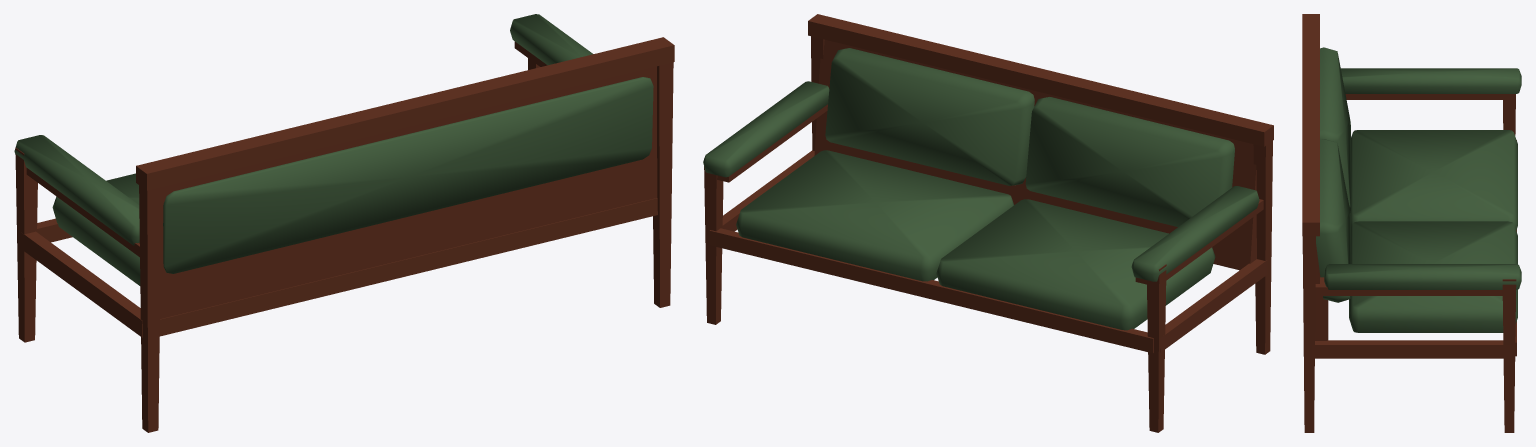
Rendered from parametric-sofa-1st.glb.
3 views of the same model, side by side, from view 1: azimuth 30°, elevation 25°; view 2: azimuth 150°, elevation 25°; view 3: azimuth 270°, elevation 25° (orthographic). The views are drawn at different scales.
Visible parts, largest first — view 1: parametric-sofa-1st; view 2: parametric-sofa-1st; view 3: parametric-sofa-1st.
Part boxes in pixels (x1,y1,x2,y2): parametric-sofa-1st: (14, 14, 674, 432); parametric-sofa-1st: (703, 14, 1273, 432); parametric-sofa-1st: (1302, 14, 1521, 432).
Size of the model in its own units: 1.8 by 0.85 by 0.8.
